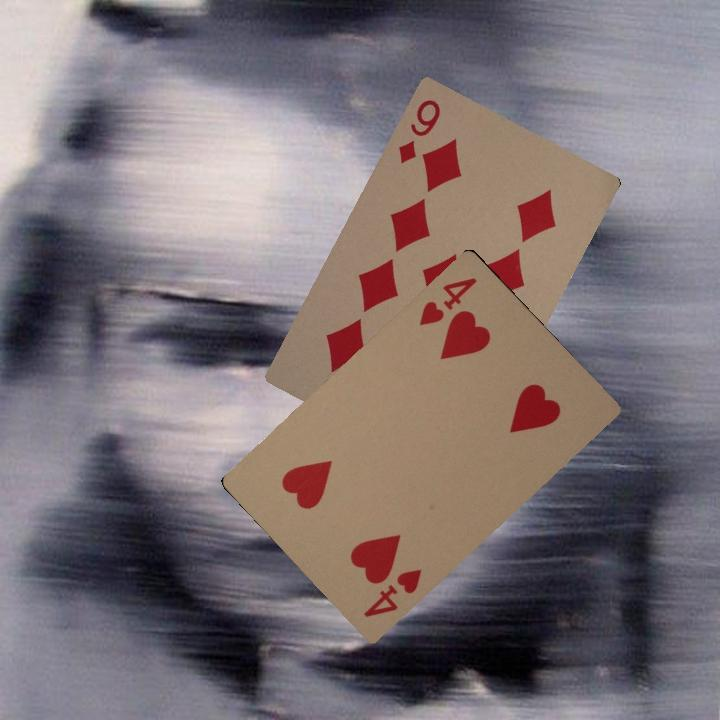4h: (359, 564, 425, 620), (415, 273, 480, 329)
9d: (393, 95, 445, 167)
